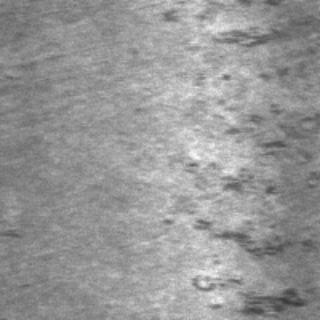rolled pit: (183, 97, 309, 316), (166, 0, 310, 76)
